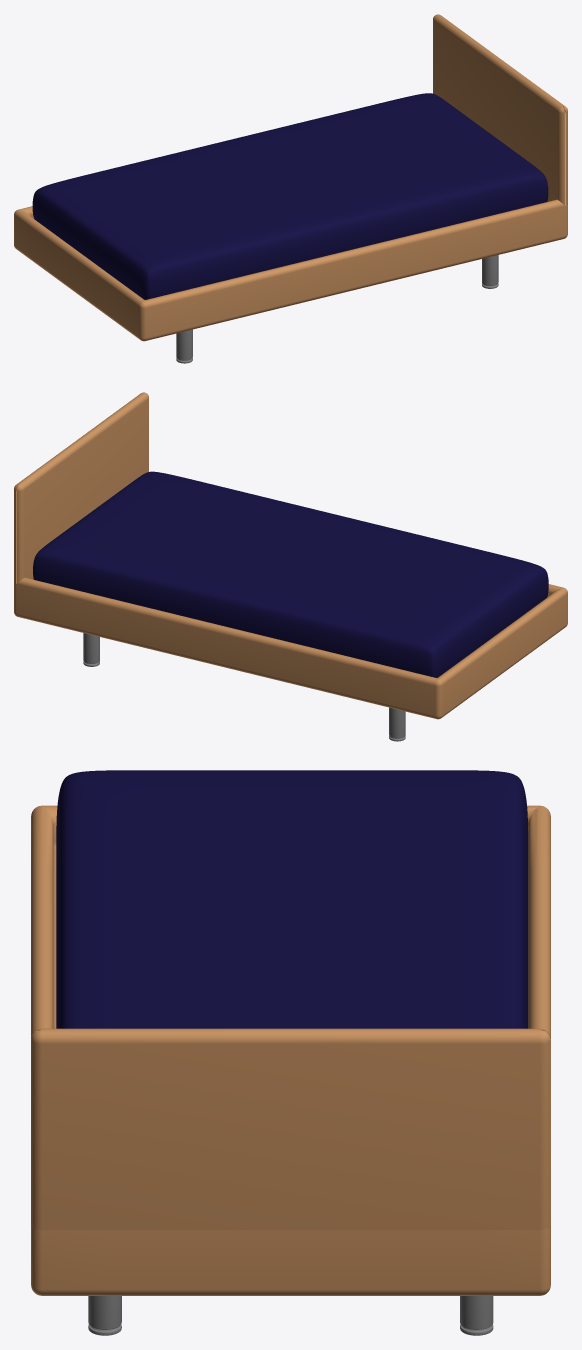
The model's file is torontoBedMattress.fbx.
The picture shows the model from 3 angles, top to bottom: view 1: azimuth 30°, elevation 25°; view 2: azimuth 150°, elevation 25°; view 3: azimuth 270°, elevation 25°; orthographic projection. The views are drawn at different scales.
Parts seen in each view (by area): view 1: torontoBedMattress; view 2: torontoBedMattress; view 3: torontoBedMattress.
Boxes of the visible parts, bbox=[...] form: torontoBedMattress: bbox=[14, 14, 567, 363]; torontoBedMattress: bbox=[14, 392, 567, 741]; torontoBedMattress: bbox=[31, 770, 550, 1335].
Size of the model in its own units: 1266 by 501 by 666.
